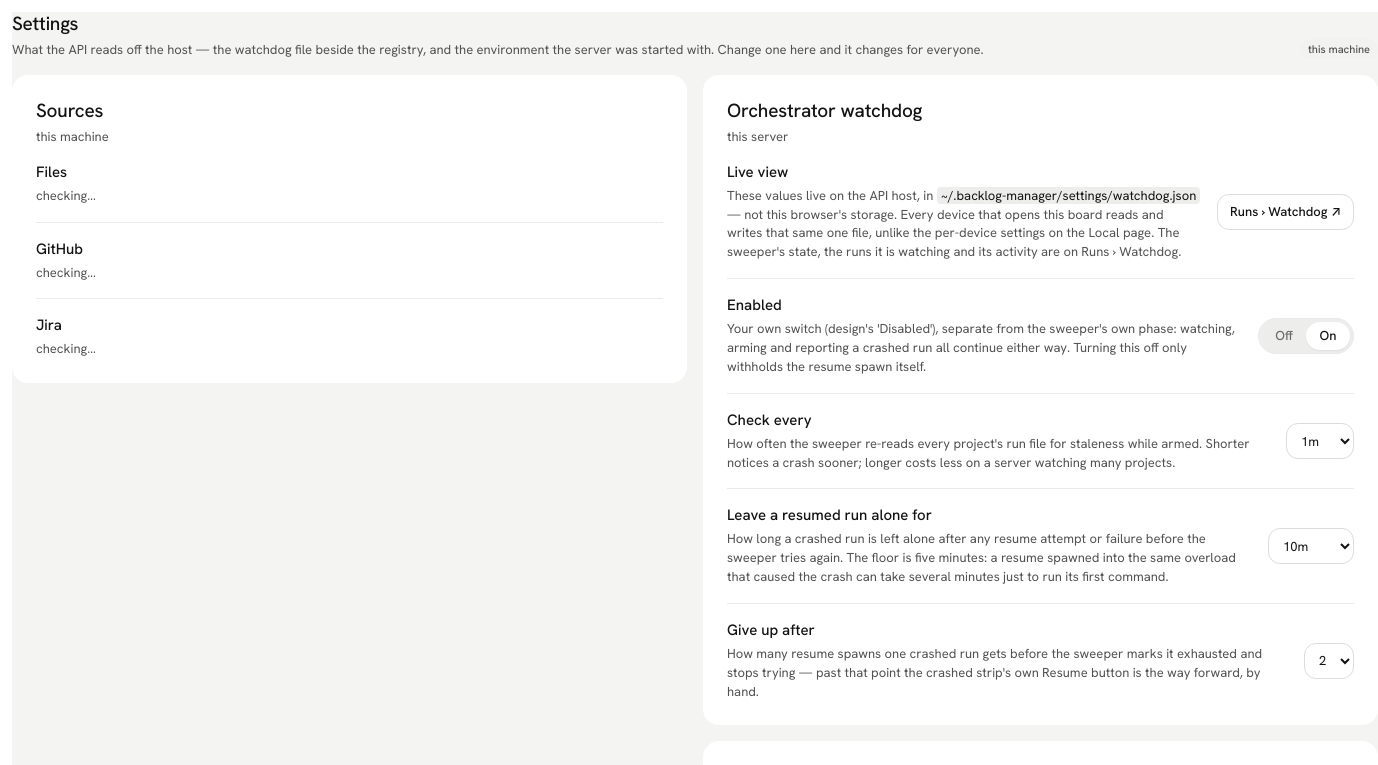
Test: WatchdogGroup › reports a refused save from the switch the same way
What coordinates should you click on to do the following:
click the switch named "Enabled"
I would click on:
 (1306, 336)
Its box is [1258,318,1354,354].
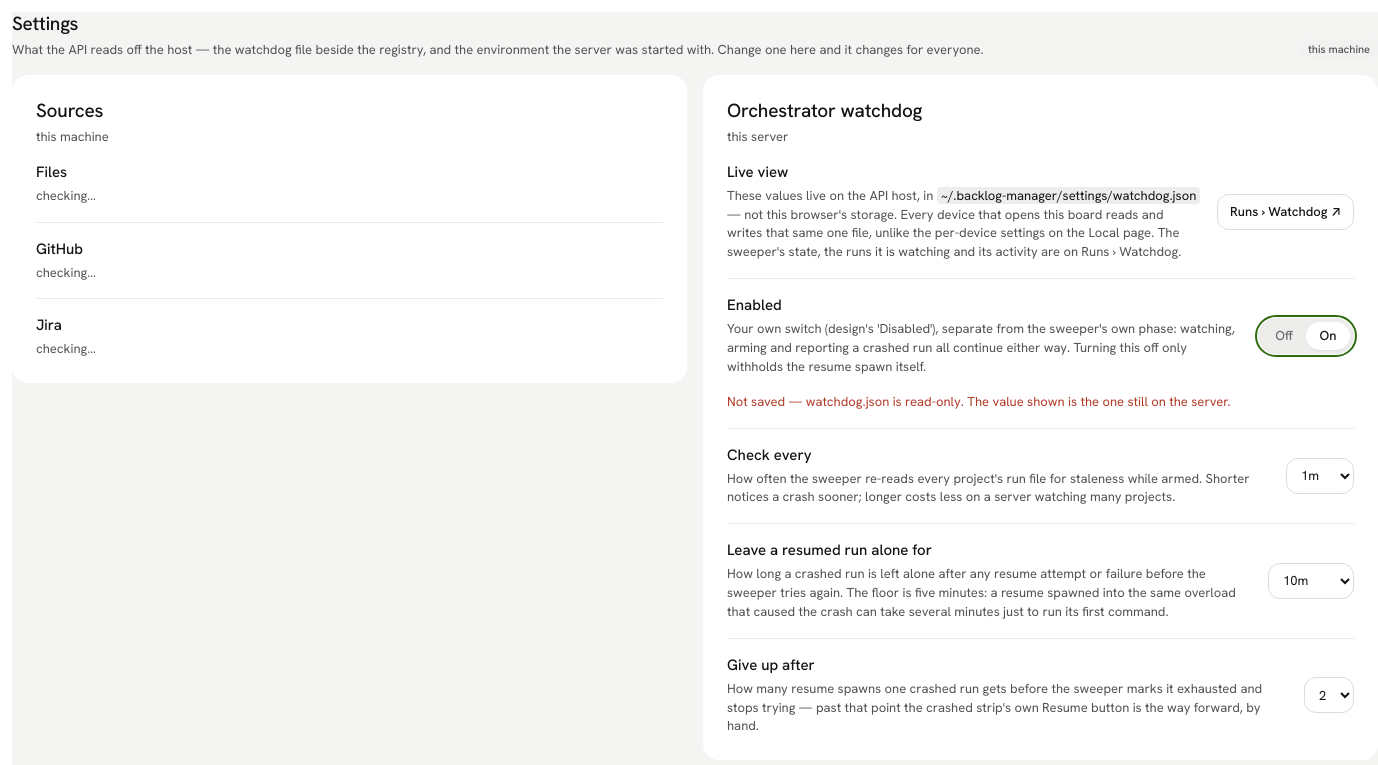
Expected: the message is shown, [727,393,1230,410]
